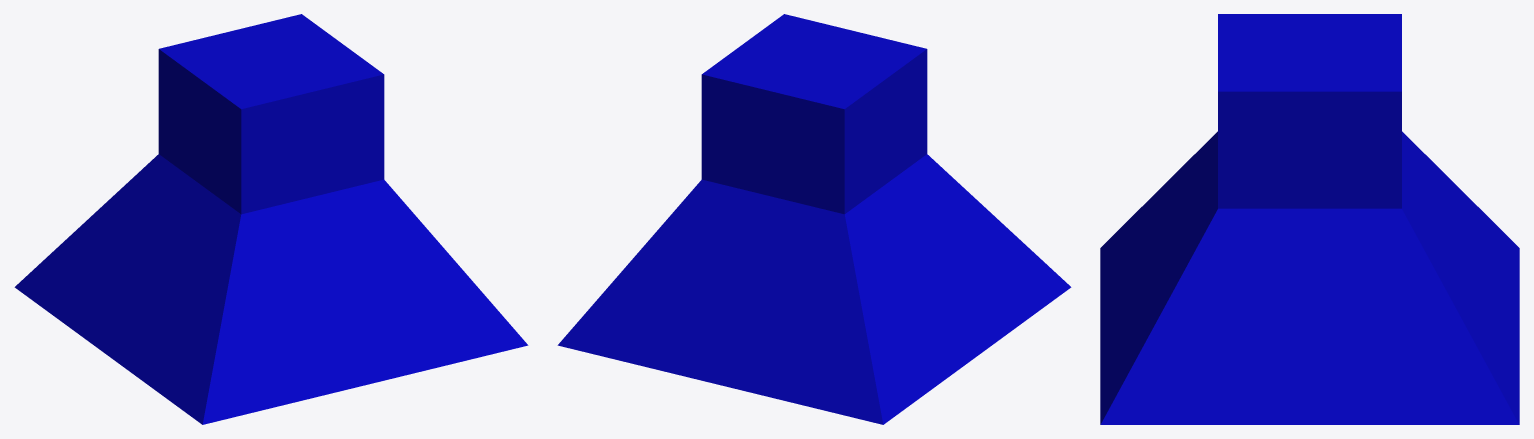
The model's file is TurretBase.obj.
3 views of the same model, side by side, from view 1: azimuth 30°, elevation 25°; view 2: azimuth 150°, elevation 25°; view 3: azimuth 270°, elevation 25° (orthographic). The views are drawn at different scales.
Parts seen in each view (by area): view 1: Cube; view 2: Cube; view 3: Cube.
Boxes of the visible parts, x1,y1,x2,y2 form: Cube: (14, 14, 528, 424); Cube: (557, 14, 1071, 424); Cube: (1100, 14, 1519, 424).
Bounding box in the file's own units: 4.56 × 3.41 × 4.56.
